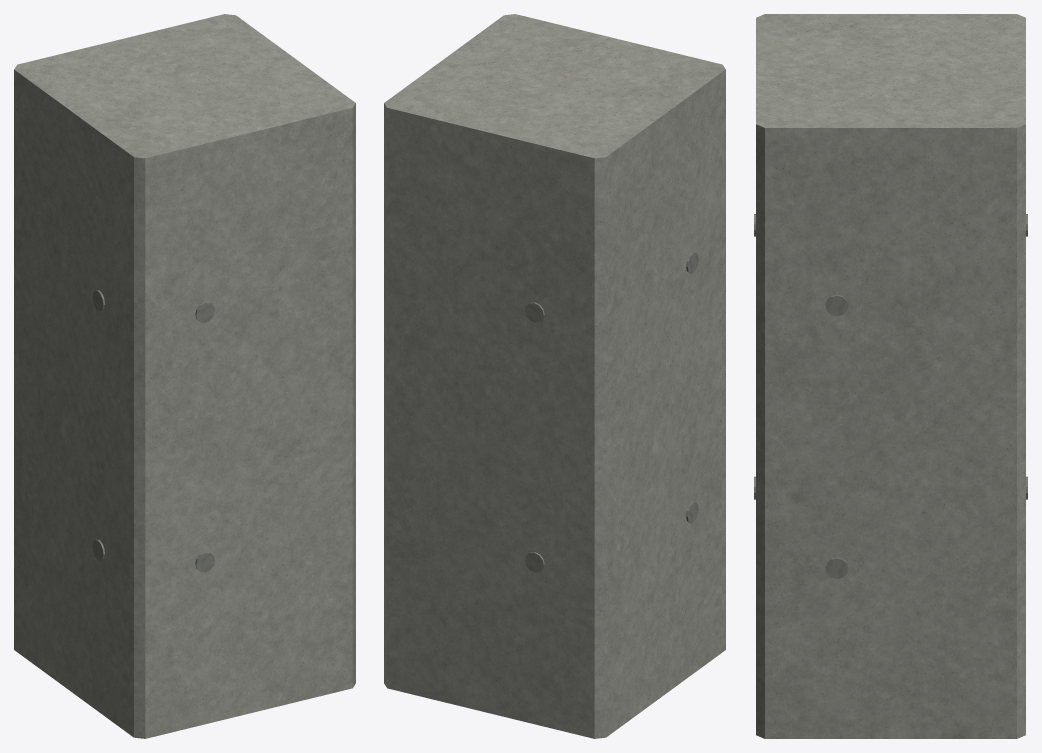
The model's file is PZ_Column_0400_1m.glb.
3 views of the same model, side by side, from view 1: azimuth 30°, elevation 25°; view 2: azimuth 150°, elevation 25°; view 3: azimuth 270°, elevation 25° (orthographic). The views are drawn at different scales.
Parts seen in each view (by area): view 1: RENDER_PZ_Column_0400_1m__RENDER_Concrete_Column_Core__000; view 2: RENDER_PZ_Column_0400_1m__RENDER_Concrete_Column_Core__000; view 3: RENDER_PZ_Column_0400_1m__RENDER_Concrete_Column_Core__000.
Part boxes in pixels (x1,y1,x2,y2): RENDER_PZ_Column_0400_1m__RENDER_Concrete_Column_Core__000: (14,14,355,738); RENDER_PZ_Column_0400_1m__RENDER_Concrete_Column_Core__000: (384,14,725,738); RENDER_PZ_Column_0400_1m__RENDER_Concrete_Column_Core__000: (756,14,1025,738).
Size of the model in its own units: 0.406 by 1 by 0.406.
2 materials, 2 textured.
